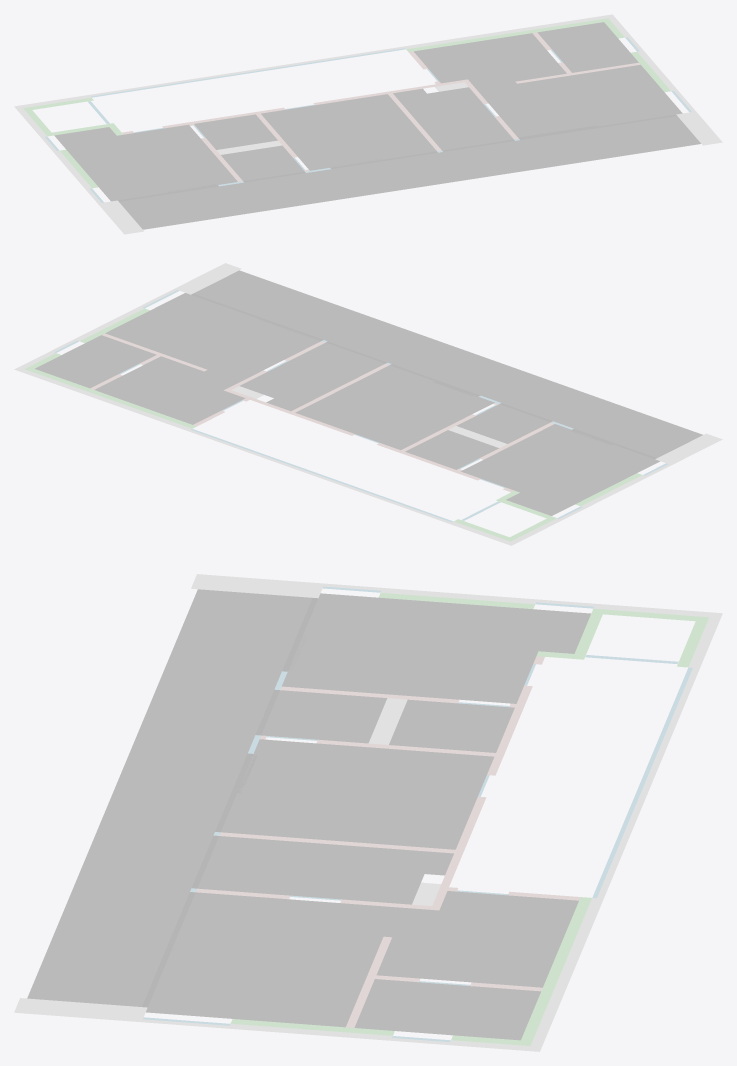
Rendered from floor-498950.glb.
The picture shows the model from 3 angles, top to bottom: view 1: azimuth 30°, elevation 25°; view 2: azimuth 150°, elevation 25°; view 3: azimuth 270°, elevation 25°; orthographic projection. The views are drawn at different scales.
Visible parts, largest first — view 1: SectionBody_20,de89aea8-538b-4391-9850-51a45f310a7d, SectionBody_29,479ffe48-f63f-4cdc-9a29-5ed8d2618c3d, SectionBody_11,158cad23-91ba-4ef1-ae7e-258570cedbbe, SectionBody_15,beefb470-fe1f-400e-a017-4379c297e920, SectionBody_84,dba8de76-29e1-4d64-a096-d0c128a51ff9, SectionBody_89,0297b300-e6d4-4720-a0ce-df3d1cfc16de, SectionBody_0,5cb63768-c57b-4bab-b736-06cb00baeb3b, SectionBody_45,882e43d4-1f59-4184-a4f0-7ba0577b3e58, SectionBody_14,54732cdd-1e45-4bc9-8f35-411170b774ea, SectionBody_43,92661b3a-fcdb-42f5-9150-bac843ed632c, SectionBody_28,92661b3a-fcdb-42f5-9150-bac843ed632c, SectionBody_4,4ecf0550-45c0-4ded-8eb9-6f0e435f92f0 (+10 smaller); view 2: SectionBody_20,de89aea8-538b-4391-9850-51a45f310a7d, SectionBody_29,479ffe48-f63f-4cdc-9a29-5ed8d2618c3d, SectionBody_11,158cad23-91ba-4ef1-ae7e-258570cedbbe, SectionBody_15,beefb470-fe1f-400e-a017-4379c297e920, SectionBody_84,dba8de76-29e1-4d64-a096-d0c128a51ff9, SectionBody_89,0297b300-e6d4-4720-a0ce-df3d1cfc16de, SectionBody_0,5cb63768-c57b-4bab-b736-06cb00baeb3b, SectionBody_14,54732cdd-1e45-4bc9-8f35-411170b774ea, SectionBody_45,882e43d4-1f59-4184-a4f0-7ba0577b3e58, SectionBody_43,92661b3a-fcdb-42f5-9150-bac843ed632c, SectionBody_28,92661b3a-fcdb-42f5-9150-bac843ed632c, SectionBody_4,4ecf0550-45c0-4ded-8eb9-6f0e435f92f0 (+8 smaller); view 3: SectionBody_20,de89aea8-538b-4391-9850-51a45f310a7d, SectionBody_29,479ffe48-f63f-4cdc-9a29-5ed8d2618c3d, SectionBody_11,158cad23-91ba-4ef1-ae7e-258570cedbbe, SectionBody_15,beefb470-fe1f-400e-a017-4379c297e920, SectionBody_84,dba8de76-29e1-4d64-a096-d0c128a51ff9, SectionBody_89,0297b300-e6d4-4720-a0ce-df3d1cfc16de, SectionBody_0,5cb63768-c57b-4bab-b736-06cb00baeb3b, SectionBody_14,54732cdd-1e45-4bc9-8f35-411170b774ea, SectionBody_45,882e43d4-1f59-4184-a4f0-7ba0577b3e58, SectionBody_43,92661b3a-fcdb-42f5-9150-bac843ed632c, SectionBody_28,92661b3a-fcdb-42f5-9150-bac843ed632c, SectionBody_57,aeb265a0-2cff-4c14-8703-f3e4c57c95e6 (+14 smaller).
Part boxes in pixels (x1,y1,x2,y2): SectionBody_20,de89aea8-538b-4391-9850-51a45f310a7d: [119, 116, 700, 229]; SectionBody_29,479ffe48-f63f-4cdc-9a29-5ed8d2618c3d: [477, 64, 682, 138]; SectionBody_11,158cad23-91ba-4ef1-ae7e-258570cedbbe: [54, 124, 237, 201]; SectionBody_15,beefb470-fe1f-400e-a017-4379c297e920: [261, 94, 436, 170]; SectionBody_84,dba8de76-29e1-4d64-a096-d0c128a51ff9: [414, 33, 566, 89]; SectionBody_89,0297b300-e6d4-4720-a0ce-df3d1cfc16de: [393, 87, 513, 150]; SectionBody_0,5cb63768-c57b-4bab-b736-06cb00baeb3b: [537, 22, 638, 72]; SectionBody_45,882e43d4-1f59-4184-a4f0-7ba0577b3e58: [194, 114, 277, 149]; SectionBody_14,54732cdd-1e45-4bc9-8f35-411170b774ea: [221, 145, 304, 180]; SectionBody_43,92661b3a-fcdb-42f5-9150-bac843ed632c: [21, 14, 614, 108]; SectionBody_28,92661b3a-fcdb-42f5-9150-bac843ed632c: [30, 18, 610, 109]; SectionBody_4,4ecf0550-45c0-4ded-8eb9-6f0e435f92f0: [122, 80, 464, 134]; SectionBody_20,de89aea8-538b-4391-9850-51a45f310a7d: [193, 270, 702, 457]; SectionBody_29,479ffe48-f63f-4cdc-9a29-5ed8d2618c3d: [105, 293, 320, 381]; SectionBody_11,158cad23-91ba-4ef1-ae7e-258570cedbbe: [461, 424, 659, 515]; SectionBody_15,beefb470-fe1f-400e-a017-4379c297e920: [295, 365, 494, 450]; SectionBody_84,dba8de76-29e1-4d64-a096-d0c128a51ff9: [95, 356, 245, 424]; SectionBody_89,0297b300-e6d4-4720-a0ce-df3d1cfc16de: [240, 342, 384, 411]; SectionBody_0,5cb63768-c57b-4bab-b736-06cb00baeb3b: [35, 335, 156, 388]; SectionBody_14,54732cdd-1e45-4bc9-8f35-411170b774ea: [456, 404, 550, 443]; SectionBody_45,882e43d4-1f59-4184-a4f0-7ba0577b3e58: [405, 430, 498, 469]; SectionBody_43,92661b3a-fcdb-42f5-9150-bac843ed632c: [14, 367, 509, 543]; SectionBody_28,92661b3a-fcdb-42f5-9150-bac843ed632c: [24, 367, 509, 539]; SectionBody_4,4ecf0550-45c0-4ded-8eb9-6f0e435f92f0: [228, 390, 514, 492]; SectionBody_20,de89aea8-538b-4391-9850-51a45f310a7d: [27, 589, 312, 1006]; SectionBody_29,479ffe48-f63f-4cdc-9a29-5ed8d2618c3d: [146, 892, 395, 1027]; SectionBody_11,158cad23-91ba-4ef1-ae7e-258570cedbbe: [281, 593, 590, 703]; SectionBody_15,beefb470-fe1f-400e-a017-4379c297e920: [221, 739, 494, 849]; SectionBody_84,dba8de76-29e1-4d64-a096-d0c128a51ff9: [376, 891, 578, 987]; SectionBody_89,0297b300-e6d4-4720-a0ce-df3d1cfc16de: [197, 836, 453, 904]; SectionBody_0,5cb63768-c57b-4bab-b736-06cb00baeb3b: [354, 979, 540, 1040]; SectionBody_14,54732cdd-1e45-4bc9-8f35-411170b774ea: [261, 690, 387, 743]; SectionBody_45,882e43d4-1f59-4184-a4f0-7ba0577b3e58: [389, 699, 514, 752]; SectionBody_43,92661b3a-fcdb-42f5-9150-bac843ed632c: [528, 617, 720, 1051]; SectionBody_28,92661b3a-fcdb-42f5-9150-bac843ed632c: [519, 621, 706, 1045]; SectionBody_57,aeb265a0-2cff-4c14-8703-f3e4c57c95e6: [14, 998, 147, 1022].
Size of the model in its own units: 19203 by 0 by 12040.
